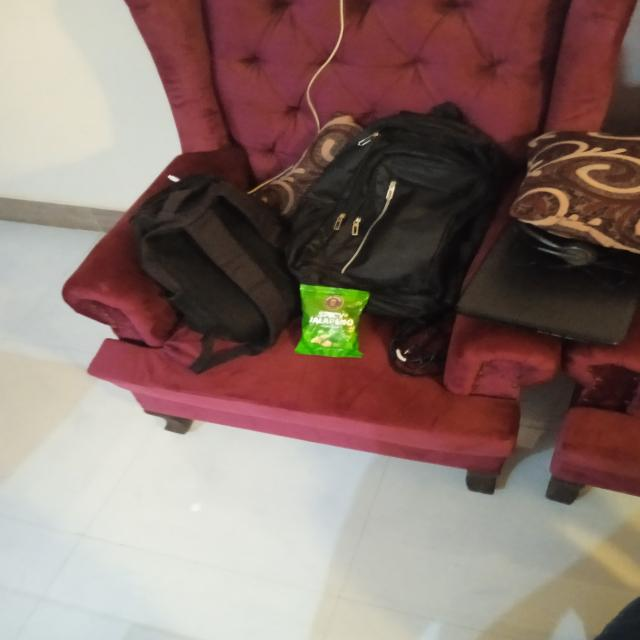Plastic: (292, 282, 370, 362)
